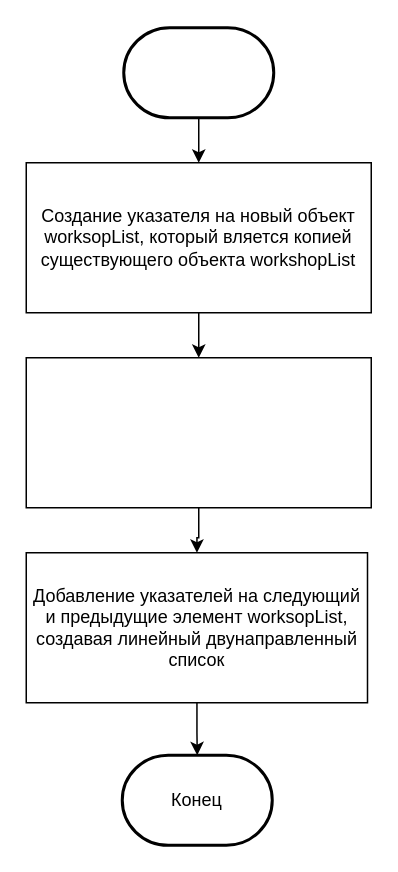
Image size: 398x872. Some labels were removed from this diagram. Here are the shapes that lost their labels. From the top down, the centre of each, then its label:
At pixel 198 72: "Начало".
At pixel 198 432: "Добавление нового клиента в конец списка".
